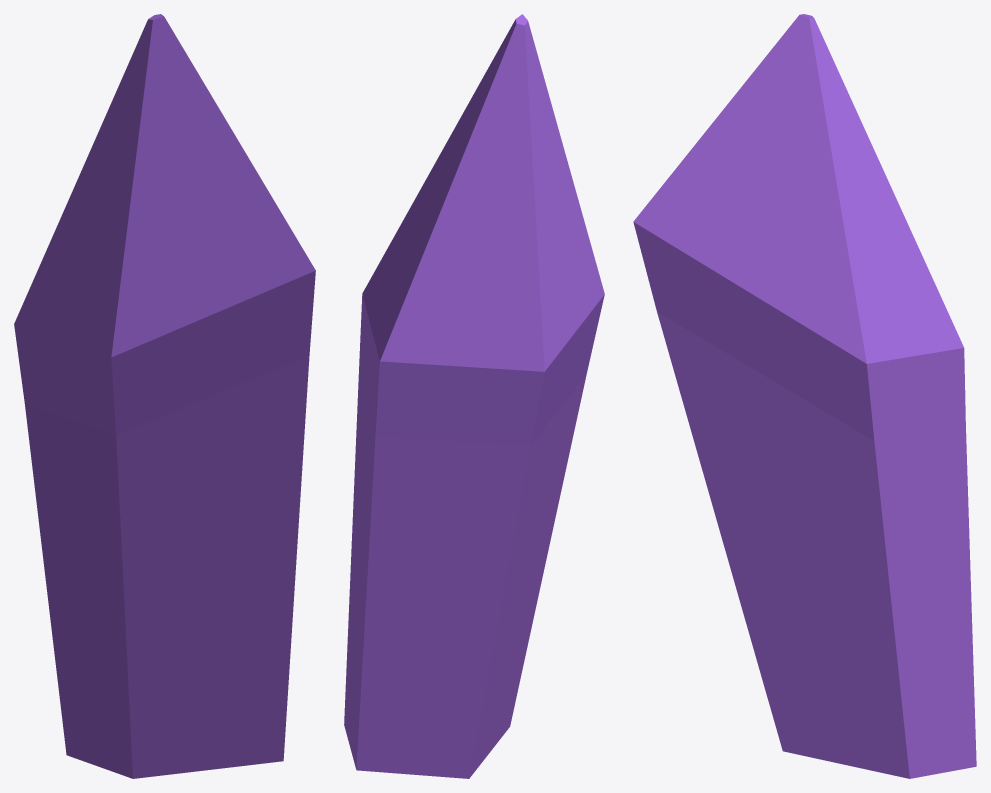
Rendered from Crystal 3.fbx.
The picture shows the model from 3 angles, left to right: view 1: azimuth 30°, elevation 25°; view 2: azimuth 150°, elevation 25°; view 3: azimuth 270°, elevation 25°; orthographic projection. The views are drawn at different scales.
Parts seen in each view (by area): view 1: Crystal 3; view 2: Crystal 3; view 3: Crystal 3.
Boxes of the visible parts, box(x1,y1,x2,y2) form: Crystal 3: box(14, 14, 315, 778); Crystal 3: box(344, 14, 604, 778); Crystal 3: box(633, 14, 976, 778).
Size of the model in its own units: 96.95 by 321 by 140.
